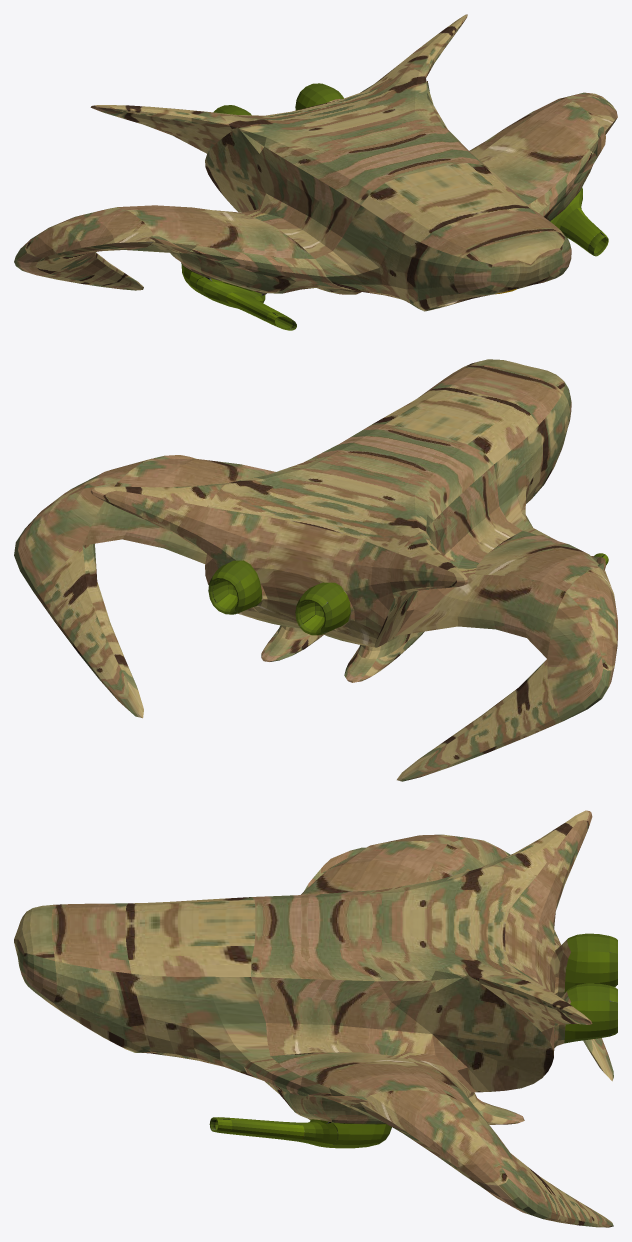
The model's file is vaisseau8.fbx.
3 views of the same model, one above another, from view 1: azimuth 30°, elevation 25°; view 2: azimuth 150°, elevation 25°; view 3: azimuth 270°, elevation 25° (orthographic). The views are drawn at different scales.
Visible parts, largest first — view 1: Cube; view 2: Cube; view 3: Cube.
Boxes of the visible parts, x1,y1,x2,y2 form: Cube: [14, 14, 617, 330]; Cube: [14, 359, 617, 781]; Cube: [14, 810, 617, 1227].
Size of the model in its own units: 6.23 by 2.09 by 4.8.
Materials: 1 (1 with a texture image).
